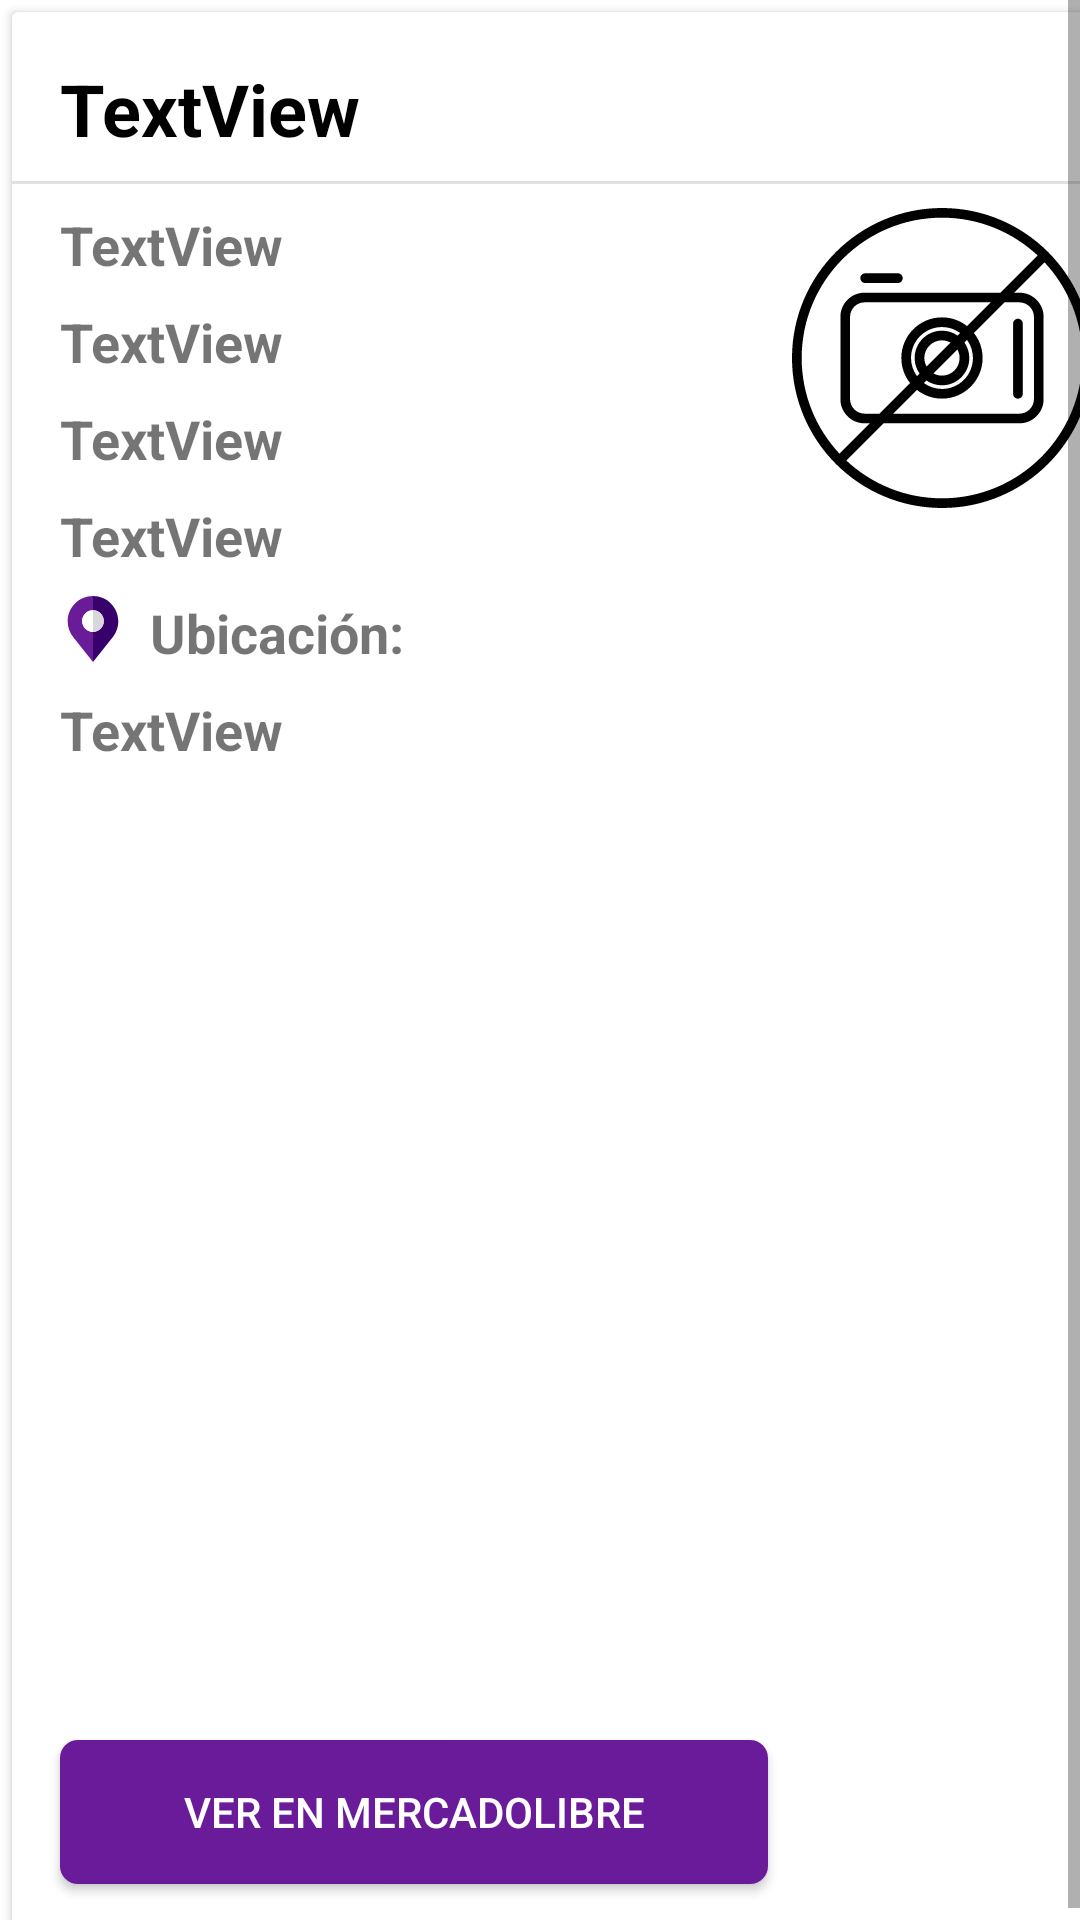

Point at icon controls on the screen. Image size 1080 x 1920, points as (x=x, y=y).
no picture taking allowed: (x=936, y=358)
